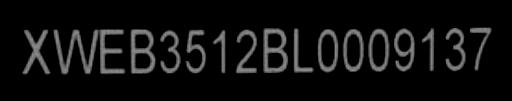letter: (49, 25, 97, 76), (18, 27, 54, 76), (312, 27, 342, 76), (128, 27, 158, 76), (260, 27, 290, 74), (96, 27, 126, 74), (468, 23, 496, 72), (182, 27, 210, 74), (230, 27, 258, 74), (338, 27, 366, 74), (364, 27, 390, 76), (290, 27, 314, 78), (390, 25, 414, 74), (440, 25, 466, 70), (208, 25, 230, 76), (417, 25, 441, 70), (158, 29, 182, 74)
